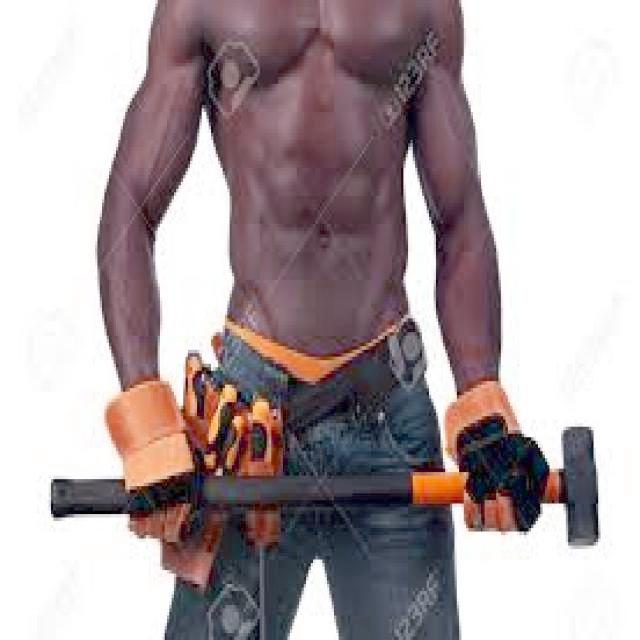hammer: (44, 414, 608, 554)
